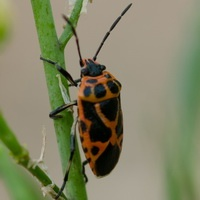insect: (78, 59, 122, 175), (39, 24, 74, 155)
